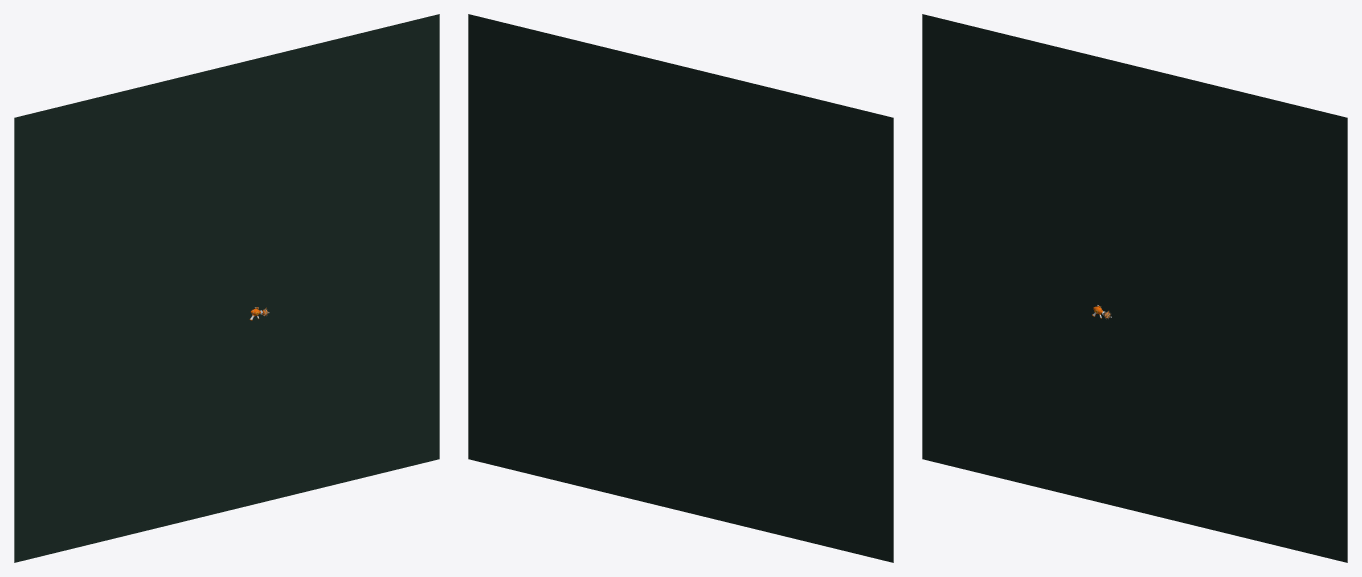
The model's file is Laserpistole.glb.
3 renders of one model, left to right at view 1: azimuth 30°, elevation 25°; view 2: azimuth 150°, elevation 25°; view 3: azimuth 330°, elevation 25°, orthographic.
Visible parts, largest first — view 1: Plane.001; view 2: Plane.001; view 3: Plane.001.
Boxes of the visible parts, x1=… form: Plane.001: x1=14, y1=14, x2=439, y2=562; Plane.001: x1=468, y1=14, x2=893, y2=562; Plane.001: x1=922, y1=14, x2=1347, y2=562.
Bounding box in the file's own units: 151 × 151 × 21.23.
13 materials, 2 textured.
